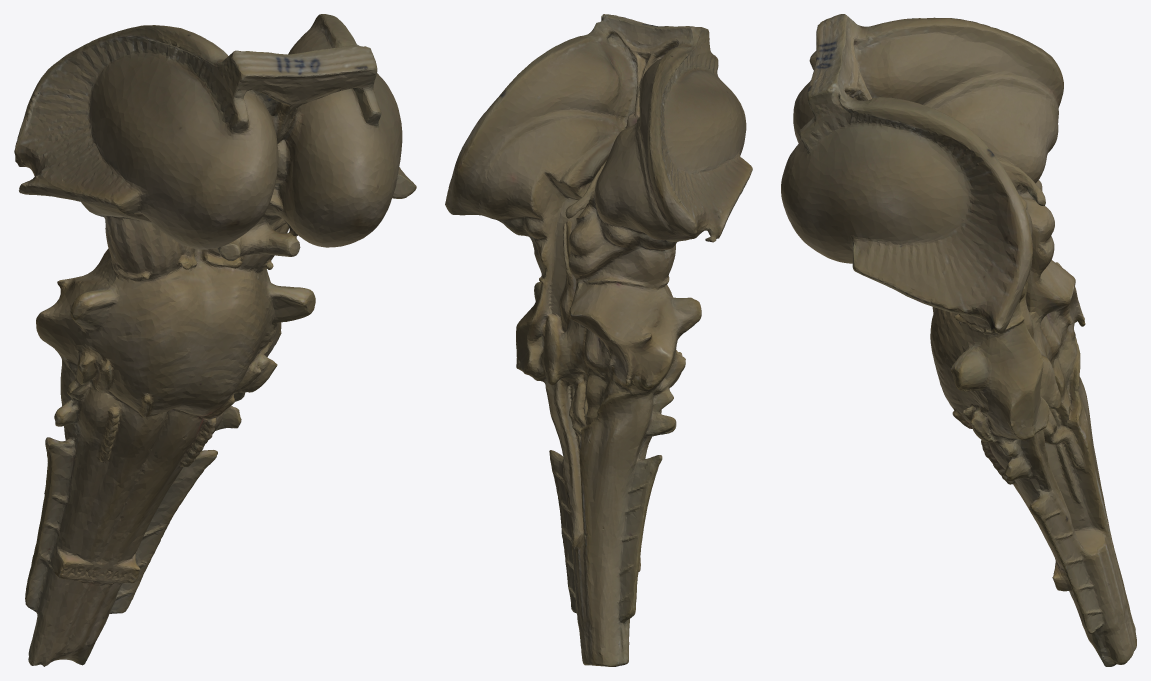
Rendered from brainstem.glb.
The picture shows the model from 3 angles, left to right: view 1: azimuth 30°, elevation 25°; view 2: azimuth 150°, elevation 25°; view 3: azimuth 270°, elevation 25°; orthographic projection. The views are drawn at different scales.
Parts seen in each view (by area): view 1: Sharp Fusion 1; view 2: Sharp Fusion 1; view 3: Sharp Fusion 1.
Part boxes in pixels (x1,y1,x2,y2): Sharp Fusion 1: (14,14,416,666); Sharp Fusion 1: (445,14,752,666); Sharp Fusion 1: (781,14,1136,666).
Size of the model in its own units: 111 by 208 by 102.
Materials: 1 (1 with a texture image).
